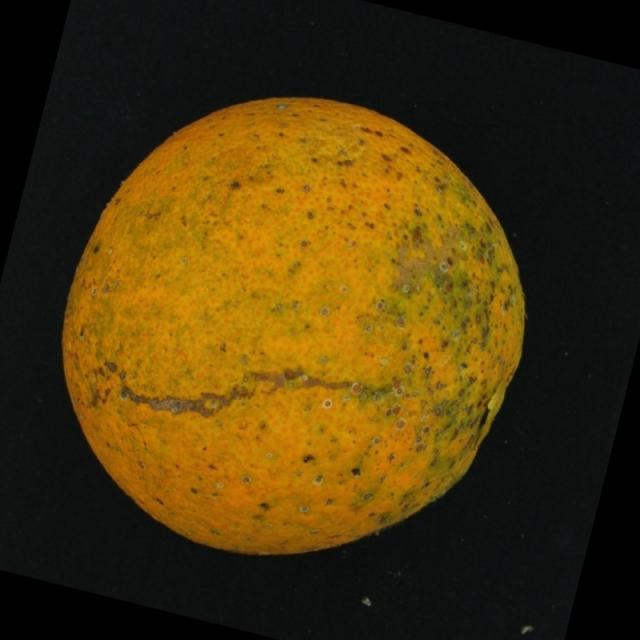grenning: (44, 58, 541, 587)
